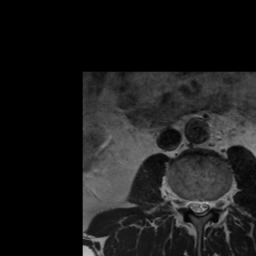CCS_stenosis: (194, 193, 201, 221)
LFS_normal: (210, 191, 218, 216)
LLS_normal: (201, 193, 210, 219)
RFS_normal: (180, 189, 187, 215)
RLS_normal: (187, 192, 194, 218)
